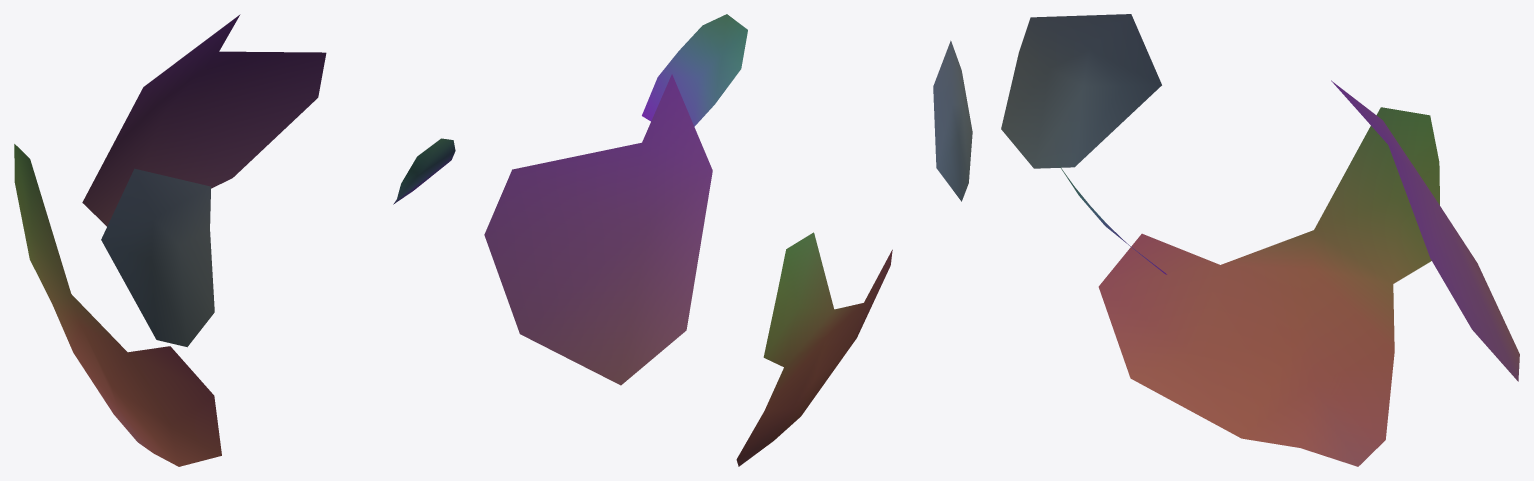
Rendered from space-nebulae-nebula_v66.glb.
3 views of the same model, side by side, from view 1: azimuth 30°, elevation 25°; view 2: azimuth 150°, elevation 25°; view 3: azimuth 270°, elevation 25° (orthographic). The views are drawn at different scales.
Visible parts, largest first — view 1: Nebula_v66; view 2: Nebula_v66; view 3: Nebula_v66.
Part boxes in pixels (left/top/right/bottom): Nebula_v66: left=14, top=14, right=455, bottom=466; Nebula_v66: left=484, top=14, right=972, bottom=466; Nebula_v66: left=1001, top=14, right=1519, bottom=466.
Bounding box in the file's own units: 0.4234 × 0.46 × 0.5.
